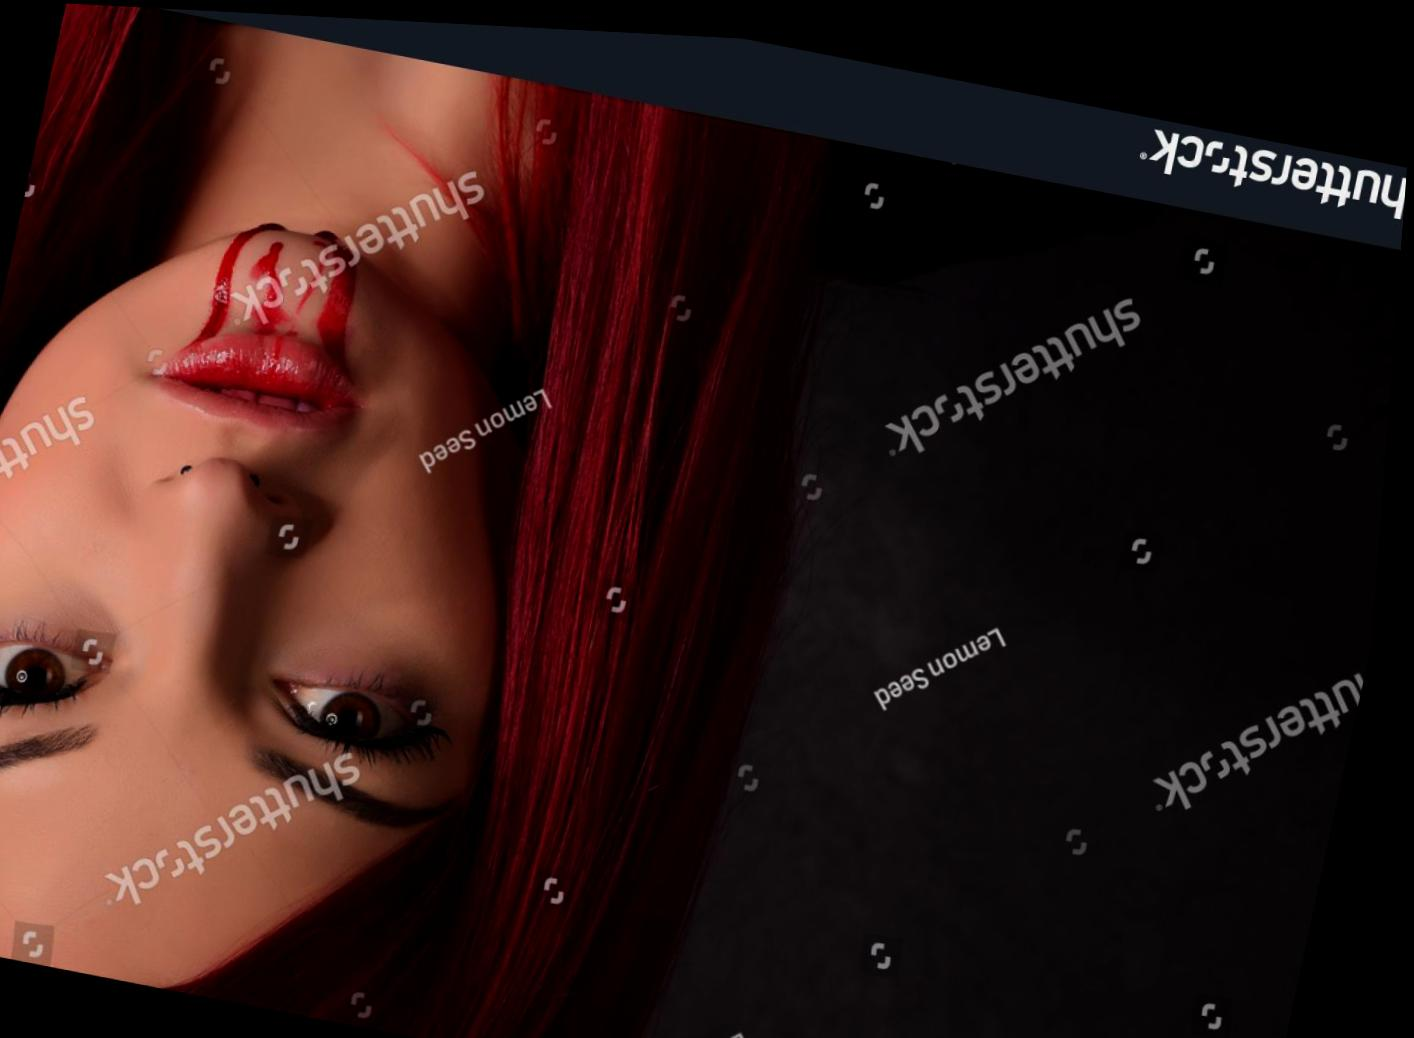Fire: (154, 218, 404, 409)
